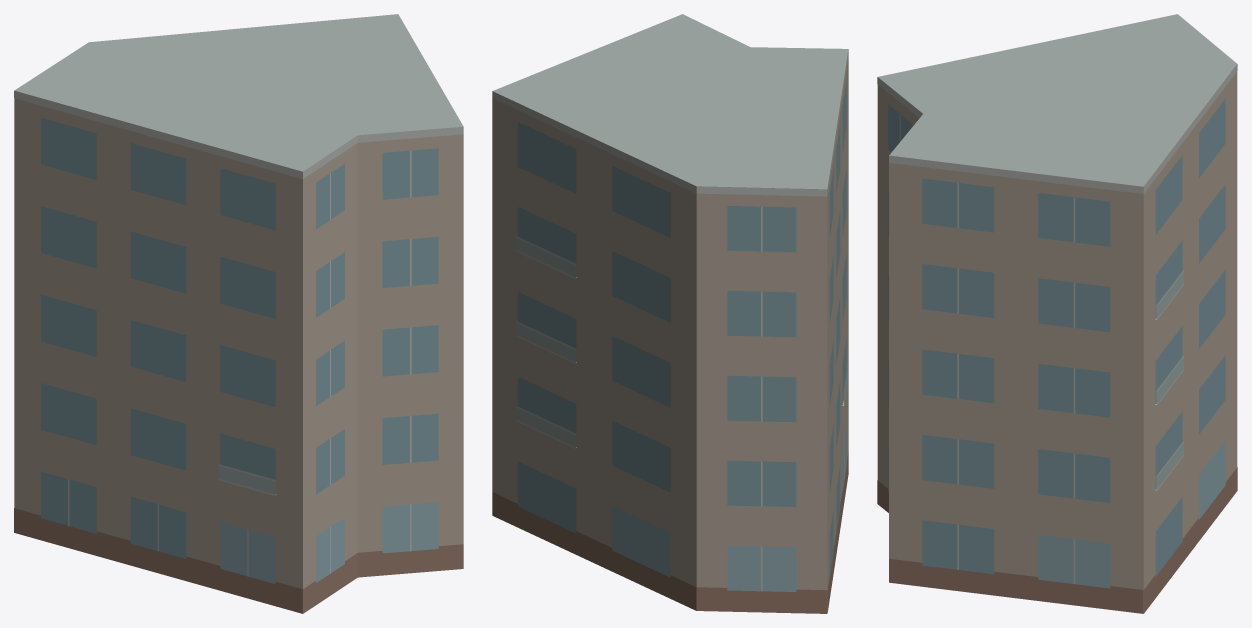
File: survey-upis-32526615.glb
The picture shows the model from 3 angles, left to right: view 1: azimuth 30°, elevation 25°; view 2: azimuth 150°, elevation 25°; view 3: azimuth 270°, elevation 25°; orthographic projection. The views are drawn at different scales.
Visible parts, largest first — view 1: survey-upis-32526615.tmp; view 2: survey-upis-32526615.tmp; view 3: survey-upis-32526615.tmp.
Boxes of the visible parts, box(x1,y1,x2,y2) form: survey-upis-32526615.tmp: box(14, 14, 463, 613); survey-upis-32526615.tmp: box(492, 14, 848, 613); survey-upis-32526615.tmp: box(877, 14, 1237, 613).
Bounding box in the file's own units: 12.37 × 14.25 × 10.89.
